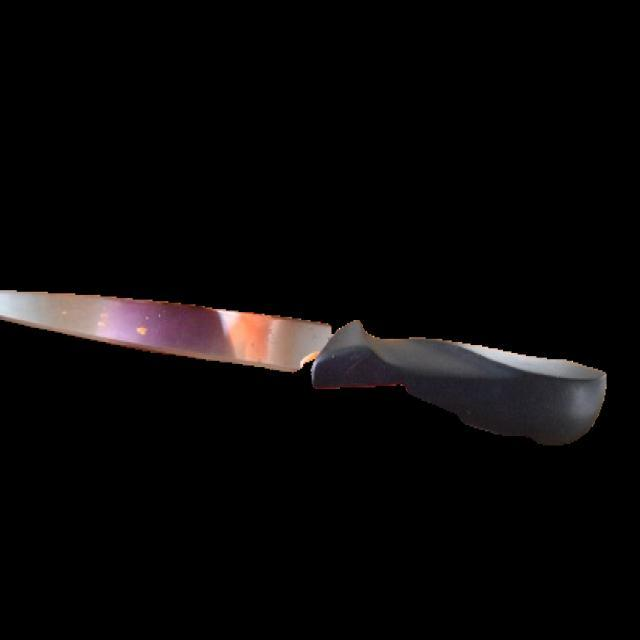knife: (0, 284, 614, 456)
